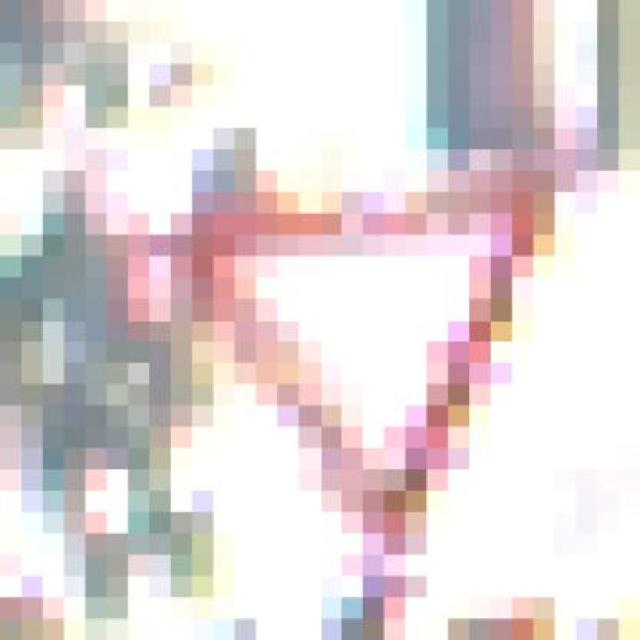Give Way: (64, 170, 619, 555)
